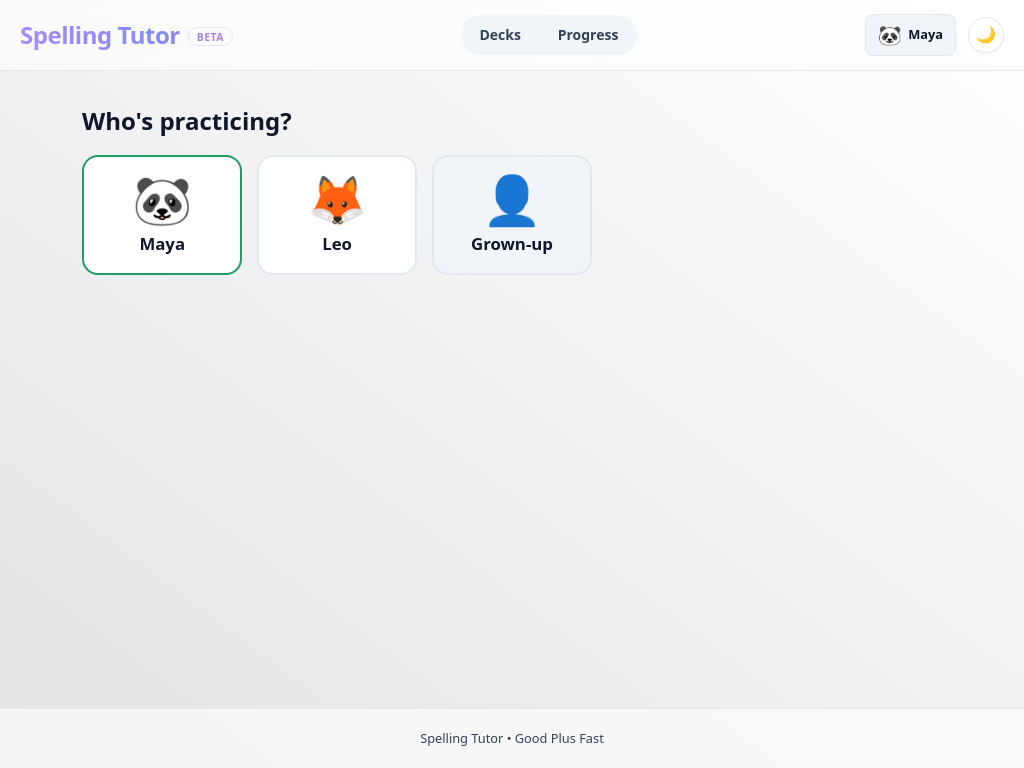
it: kid mode › with a PIN: wrong PIN stays locked, the right one lets a grown-up in
Later steps or results of the test are not shown.
Step 1. Click the button "👤 Grown-up" → [512, 215], box [432,155,592,275]
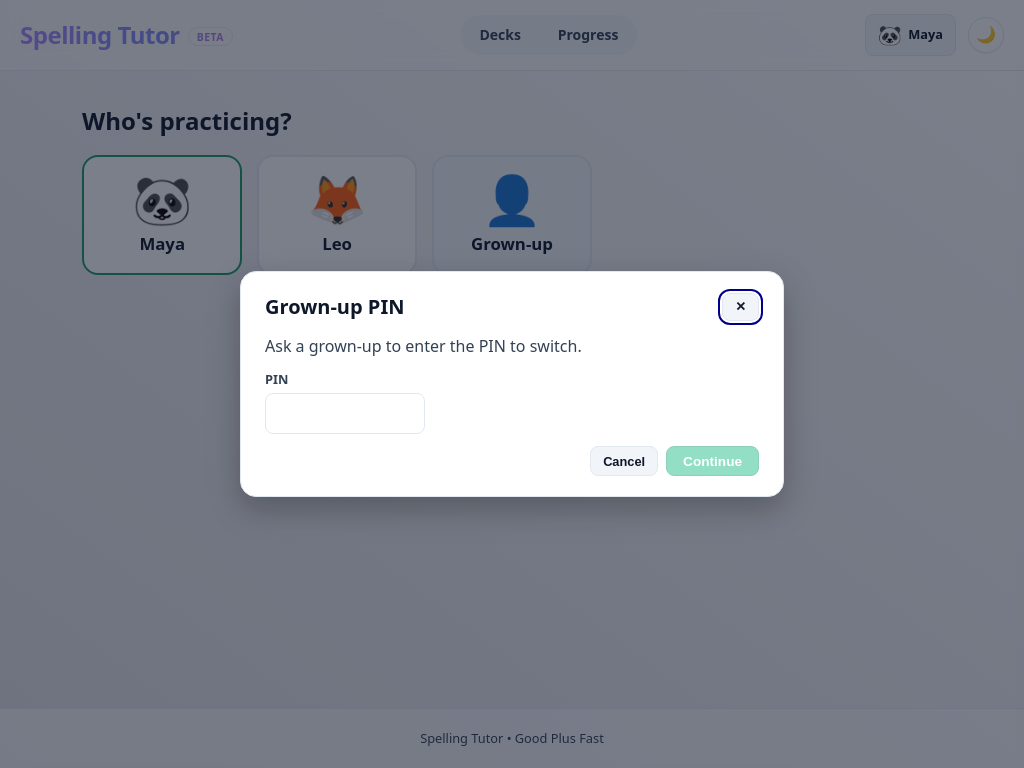
Step 2. Type "0000" into the field labelled "PIN" → [345, 414], box [265,393,425,434]
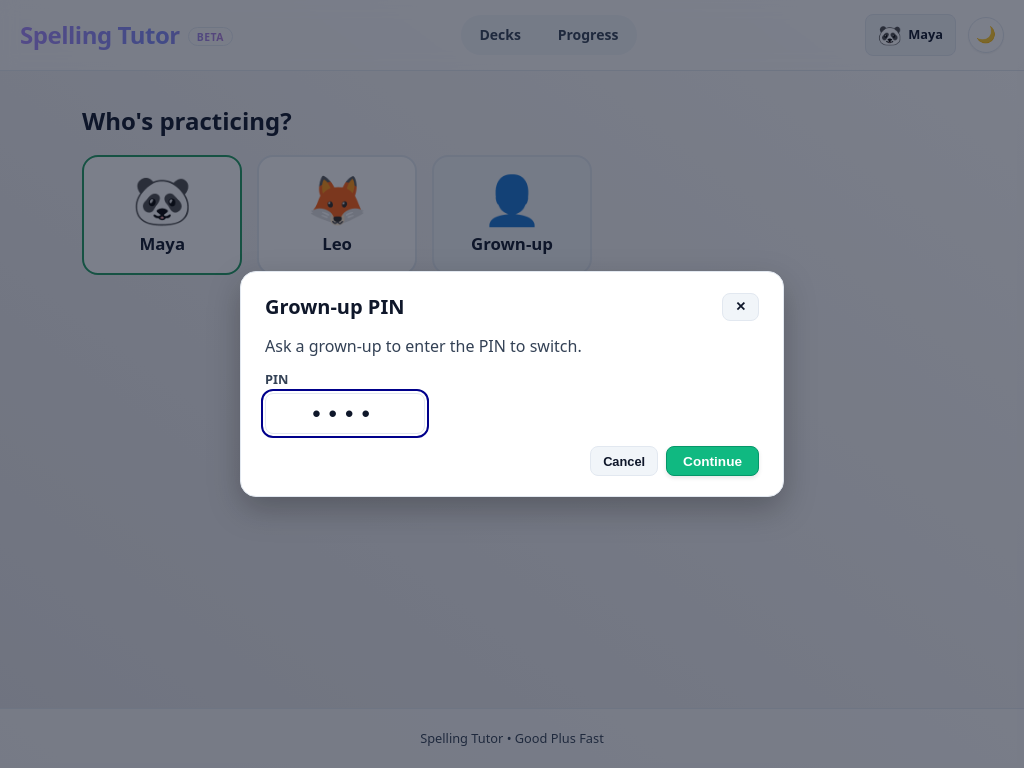
Step 3. Click the button "Continue" → [713, 461], box [666,446,759,476]
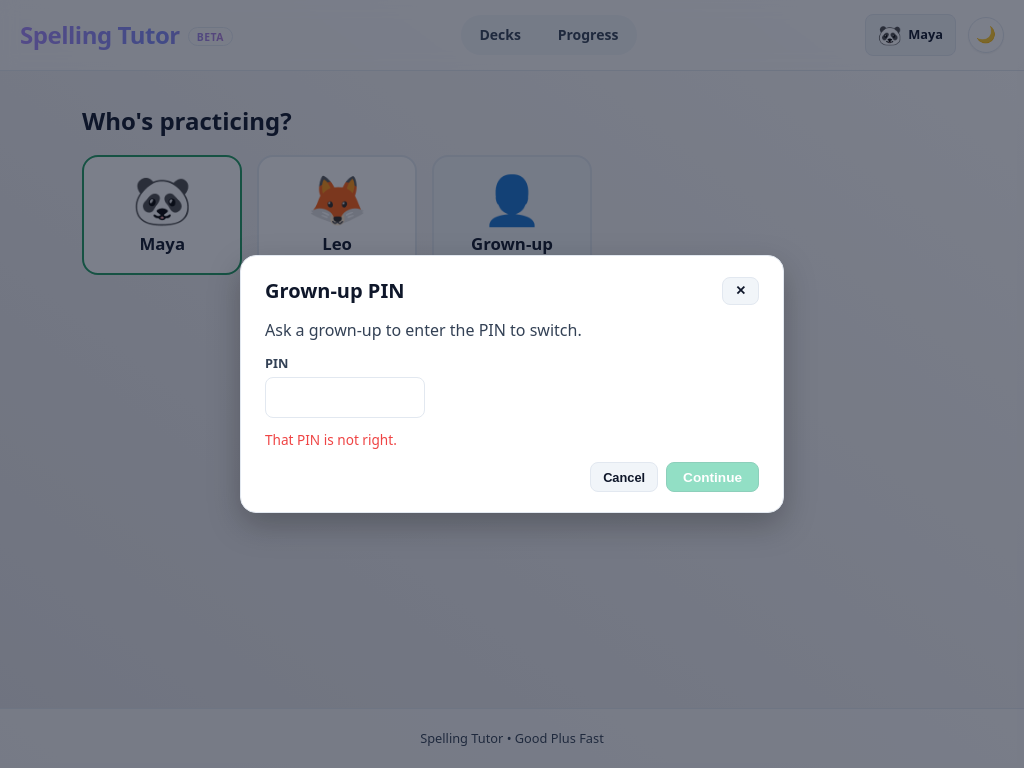
Expected: the message reads "That PIN is not right.", [265,430,397,449]
